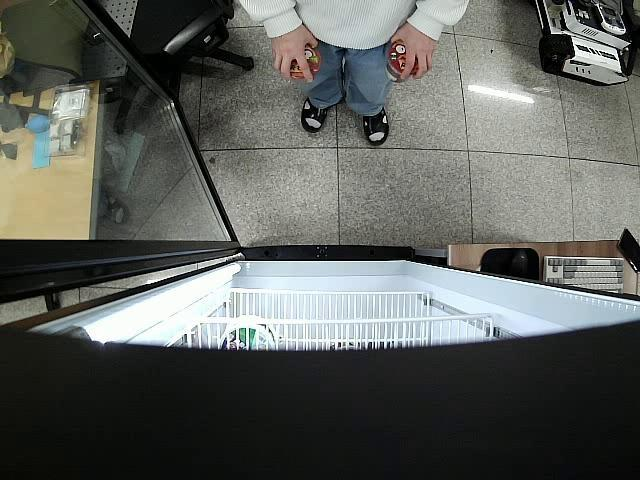06_nuguri_S: (384, 42, 420, 82), (290, 44, 320, 78)
